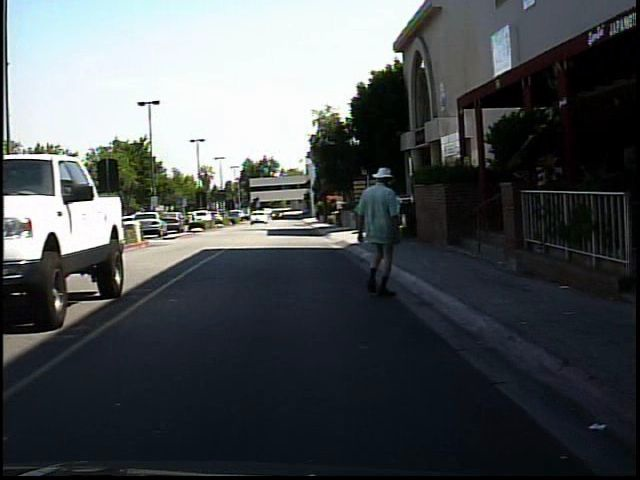person: (350, 160, 409, 302), (43, 197, 72, 266), (186, 204, 202, 228)
